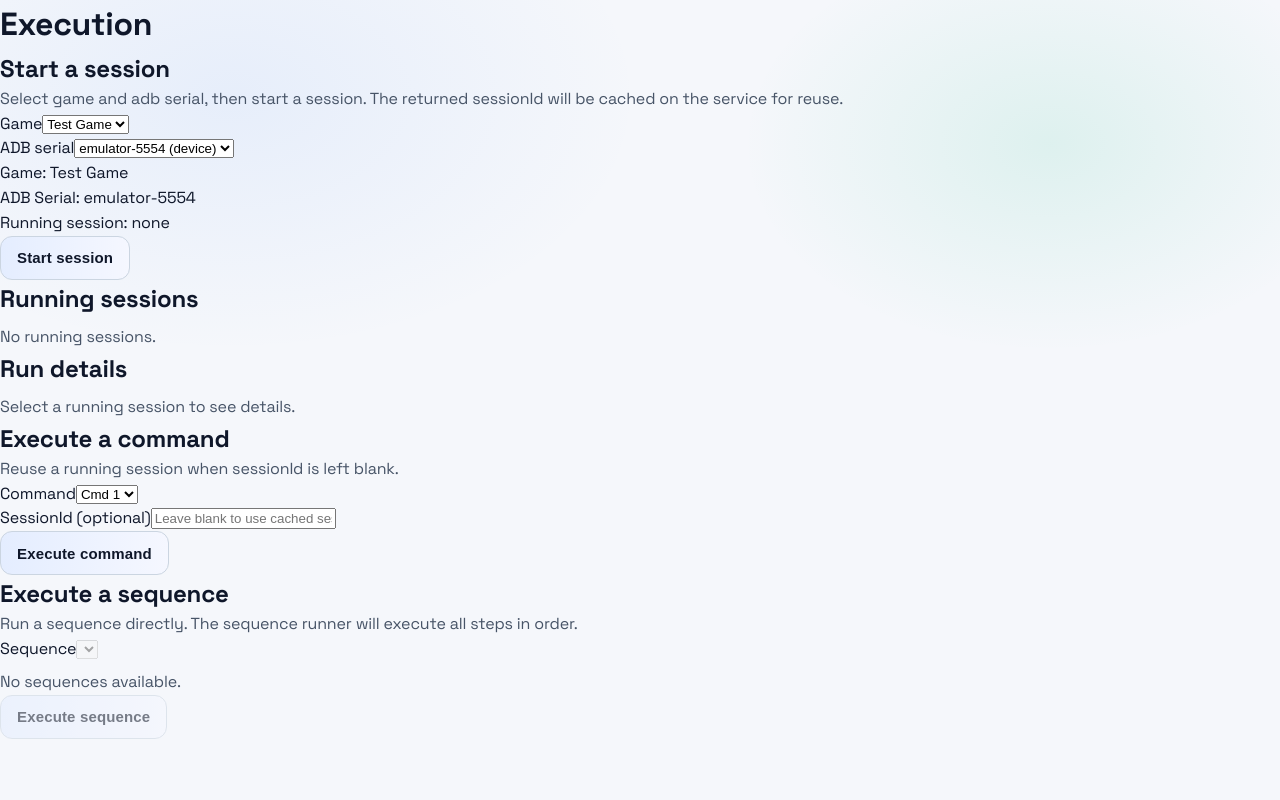
ExecutionPage › starts a session and surfaces the running entry
The width and height of the screenshot is (1280, 800).
Click the button "Start session": point(65, 258) left=0, top=236, right=130, bottom=280
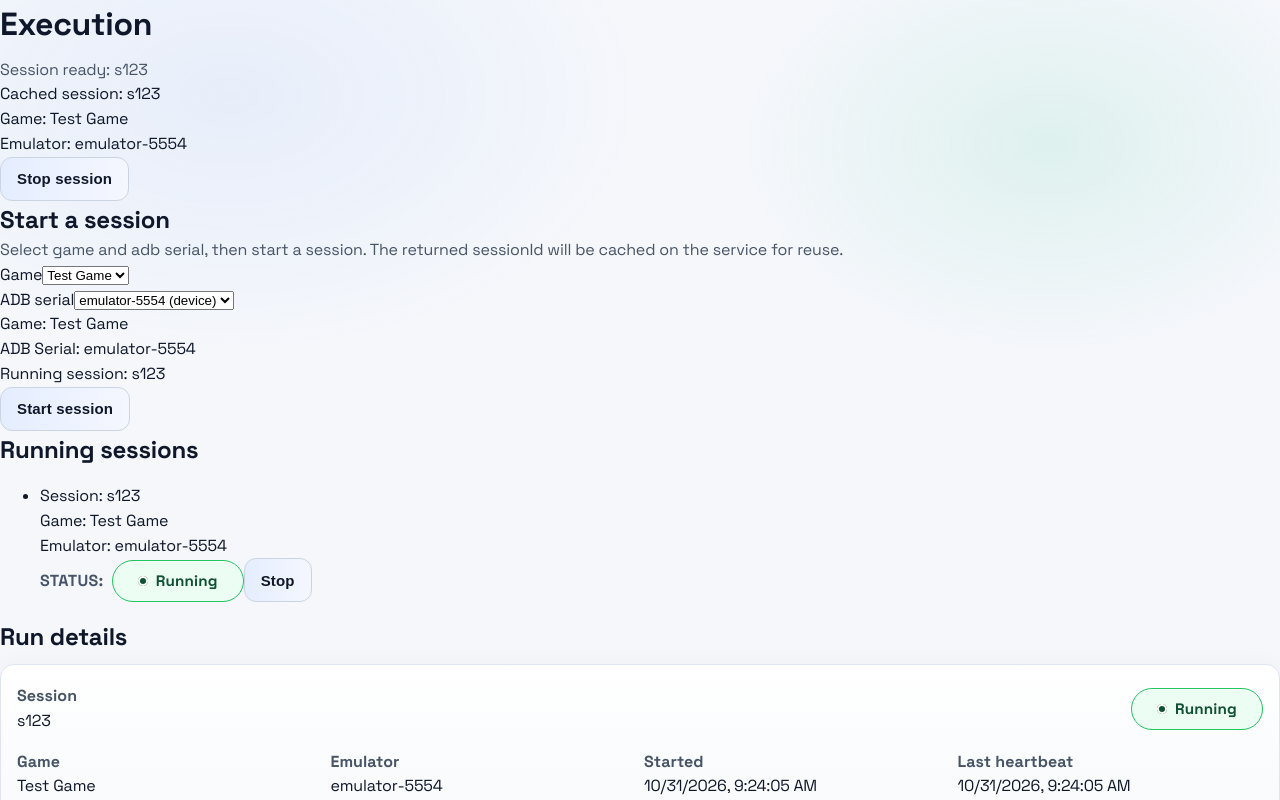
Now the text "Session ready: s123" is shown, box left=0, top=59, right=148, bottom=80
Now the text "Cached session: s123" is shown, box left=0, top=83, right=160, bottom=104
